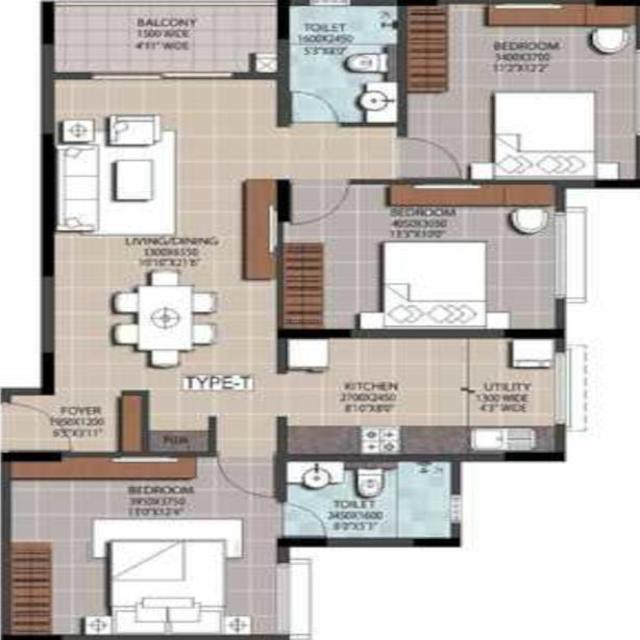Balcony-Sitout: (56, 4, 277, 69)
Bedroom: (409, 5, 636, 181), (288, 188, 554, 326)
Bedroom with Toilet: (7, 459, 453, 634)
Dining: (112, 269, 223, 369)
Enterance-Foyer: (6, 396, 116, 447)
Kitchen: (285, 339, 559, 447)
Living: (60, 80, 272, 261)
Toilet: (286, 463, 453, 535), (292, 4, 396, 119)
Utility: (470, 340, 556, 454)
